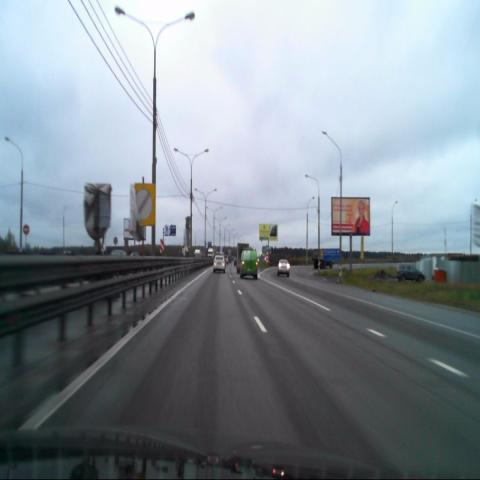3_31: (132, 183, 155, 225)
